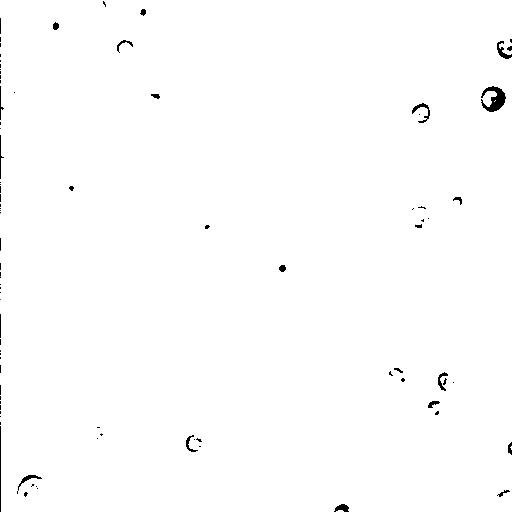micro-algae: (396, 319, 509, 439), (299, 227, 394, 319), (427, 413, 511, 511), (117, 24, 193, 102), (28, 0, 113, 66), (461, 124, 511, 182), (412, 91, 456, 137), (351, 472, 399, 511), (372, 7, 411, 49), (15, 473, 49, 509), (188, 211, 222, 245), (272, 117, 306, 151), (401, 205, 437, 237), (86, 422, 119, 455), (115, 337, 147, 366), (365, 183, 395, 213), (0, 127, 16, 182), (263, 249, 292, 279), (384, 362, 413, 391), (130, 0, 159, 27), (479, 85, 506, 113), (58, 171, 83, 201), (1, 87, 24, 118), (490, 479, 511, 511), (159, 235, 181, 263), (42, 13, 67, 37), (113, 37, 136, 57), (411, 103, 431, 125), (495, 33, 511, 60), (437, 371, 455, 392), (185, 433, 203, 452), (17, 0, 47, 11), (448, 195, 465, 211), (427, 397, 442, 415), (101, 1, 125, 11), (332, 503, 353, 511), (505, 437, 511, 457)
